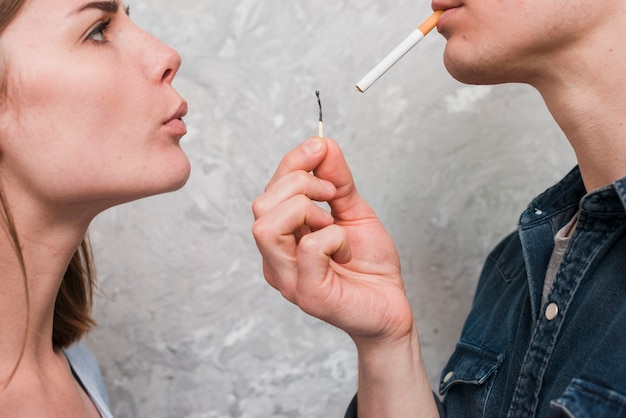cigarette: (353, 9, 445, 93)
